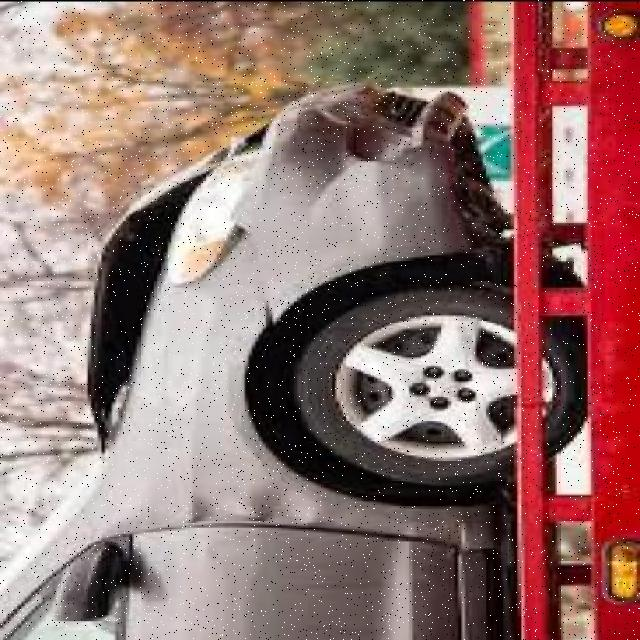damage: (231, 134, 456, 328), (88, 166, 204, 461), (178, 316, 328, 536)
